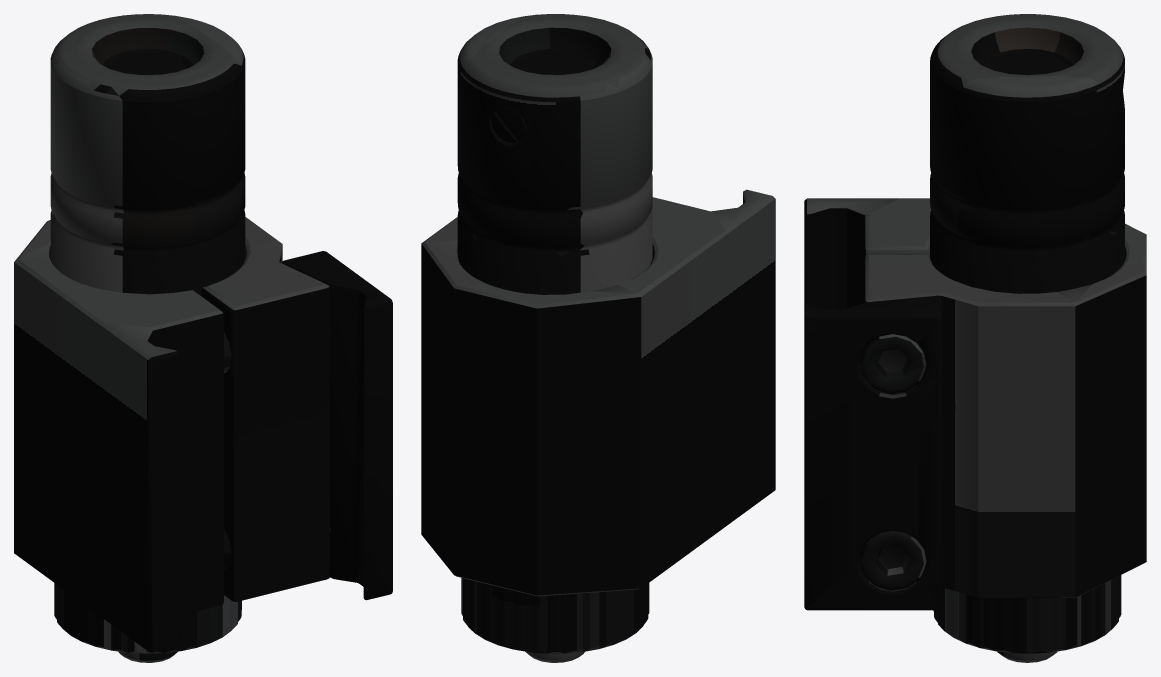
File: Light_Pistol.fbx
3 renders of one model, left to right at view 1: azimuth 30°, elevation 25°; view 2: azimuth 150°, elevation 25°; view 3: azimuth 270°, elevation 25°, orthographic.
Visible parts, largest first — view 1: asset_Light_Pistol.001; view 2: asset_Light_Pistol.001; view 3: asset_Light_Pistol.001.
Part boxes in pixels (x1,y1,x2,y2): asset_Light_Pistol.001: (14,14,392,662); asset_Light_Pistol.001: (421,14,775,662); asset_Light_Pistol.001: (804,14,1146,662).
Bounding box in the file's own units: 0.016 × 0.0378 × 0.0194.
